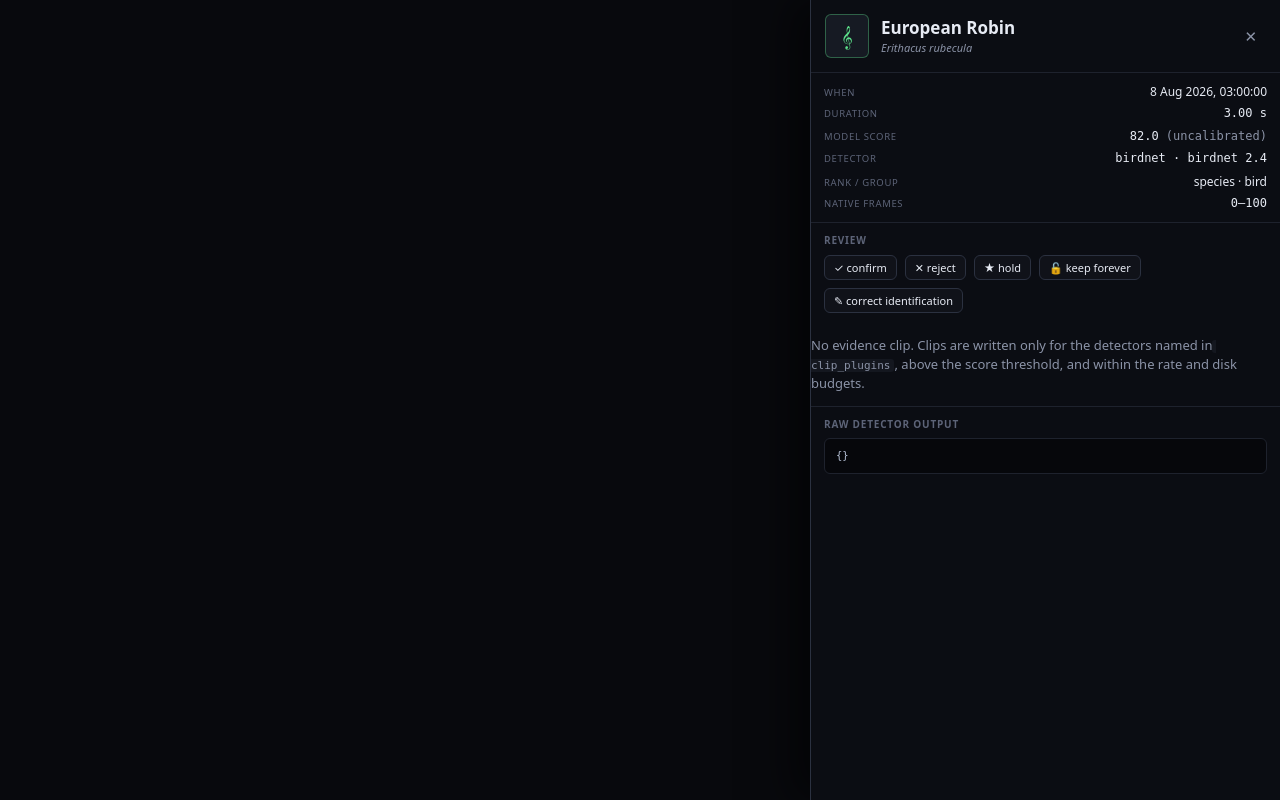
Test: DetectionDrawer keep flag (ADR-061) › keeps a recording and shows it as kept
Step 1. Click the button "🔓 keep forever" → [1090, 267], box [1039, 255, 1141, 280]
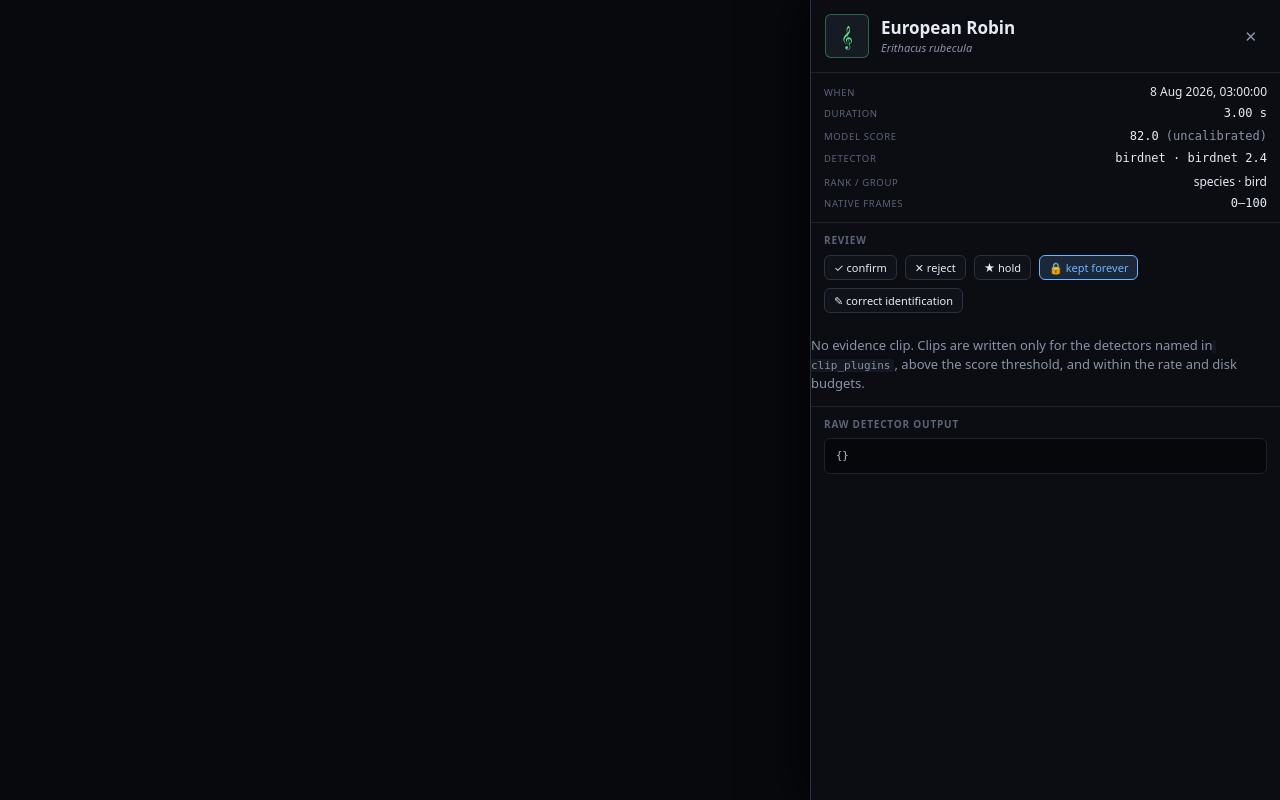
Check: the button "🔒 kept forever" is shown, box [1039, 255, 1138, 280]
